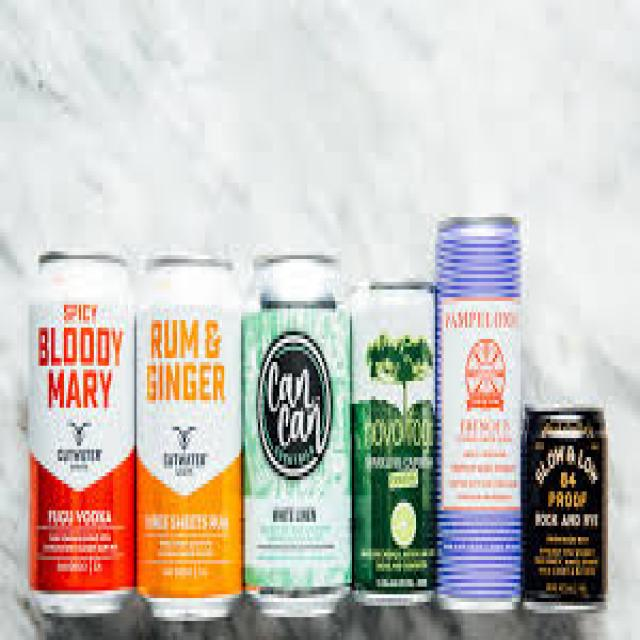Cans: (239, 252, 358, 617), (23, 236, 136, 617), (134, 248, 246, 621), (429, 206, 527, 624), (348, 270, 435, 610), (514, 392, 619, 621)
